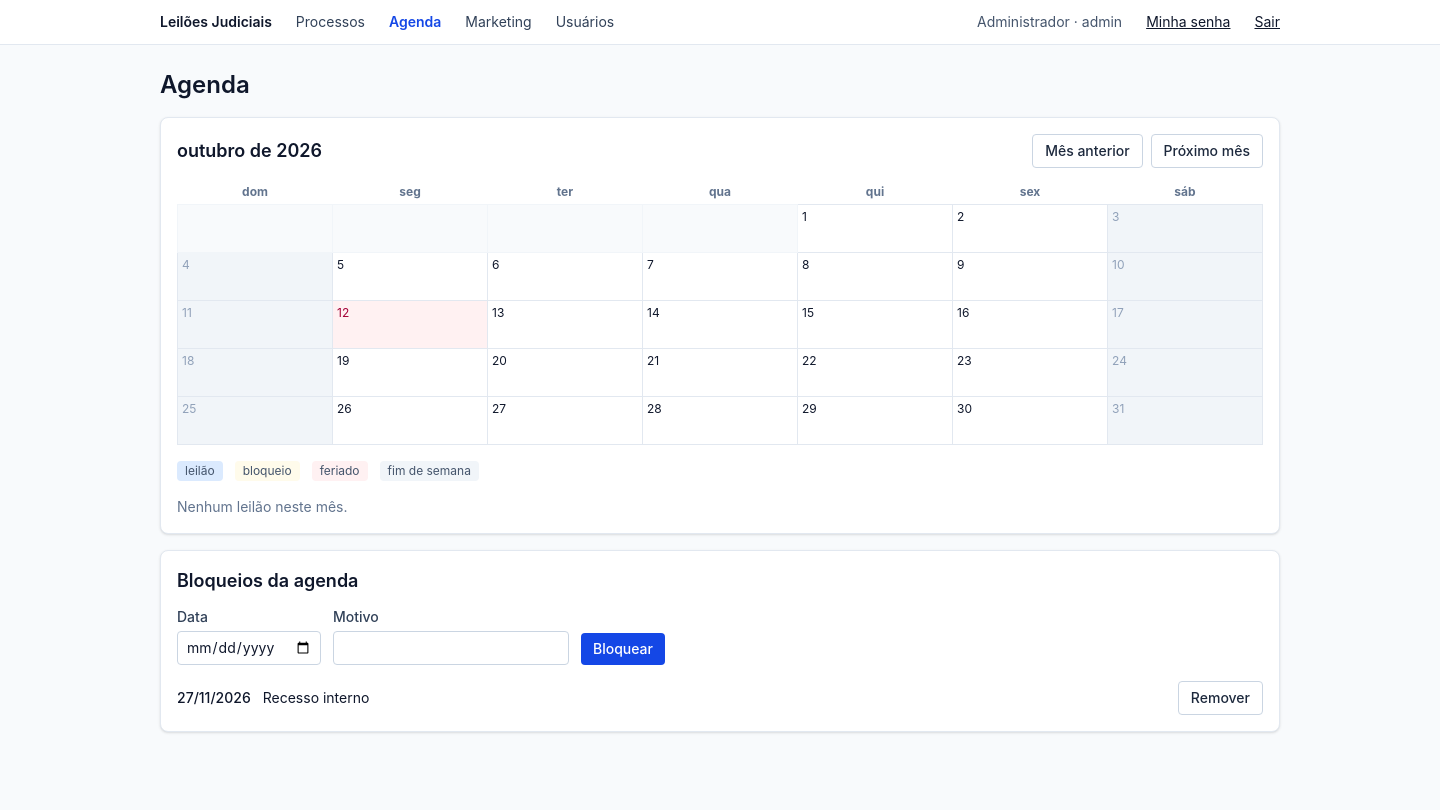
Test: AgendaPage › admin lista bloqueios e adiciona um novo
Expected: the text "Recesso interno" is shown, x1=263 y1=688 x2=369 y2=708
Expected: the text "27/11/2026" is shown, x1=177 y1=688 x2=251 y2=708
In the date field labelled "Data": (249, 648) x1=177 y1=631 x2=321 y2=665, type "2026-12-24"
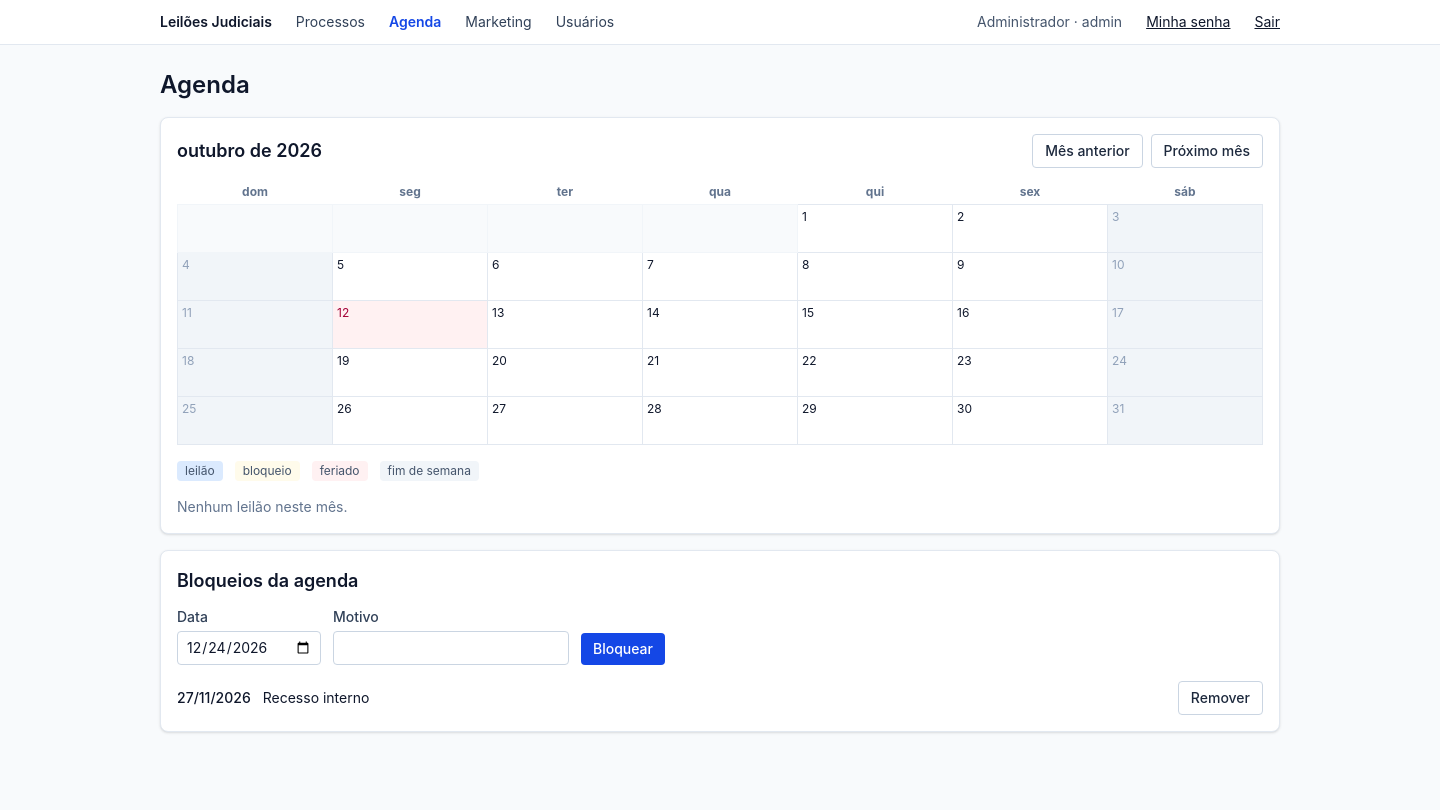
In the field labelled "Motivo": (451, 648) x1=333 y1=631 x2=569 y2=665, type "Véspera de Natal"
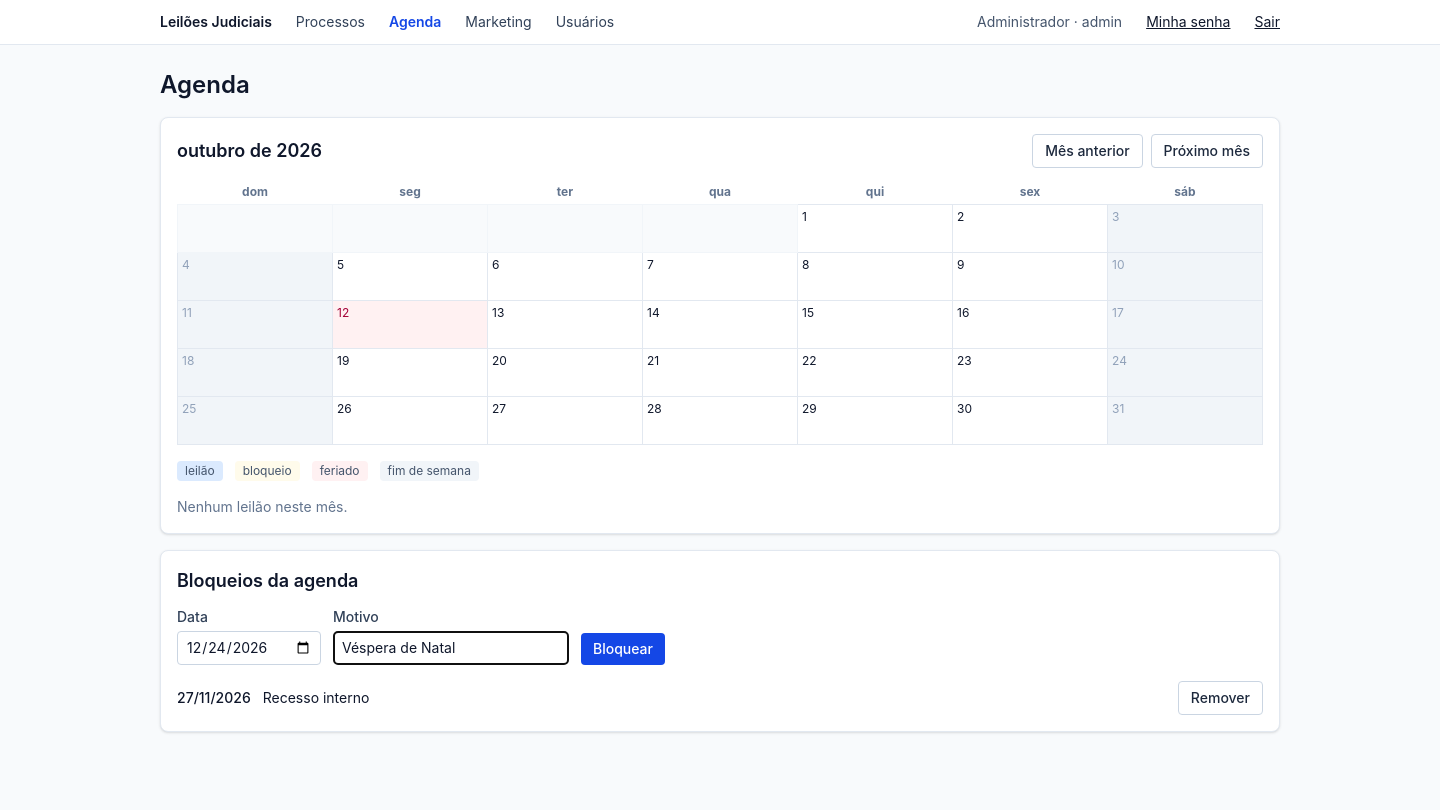
Click the button "Bloquear": (623, 649) x1=581 y1=633 x2=665 y2=665
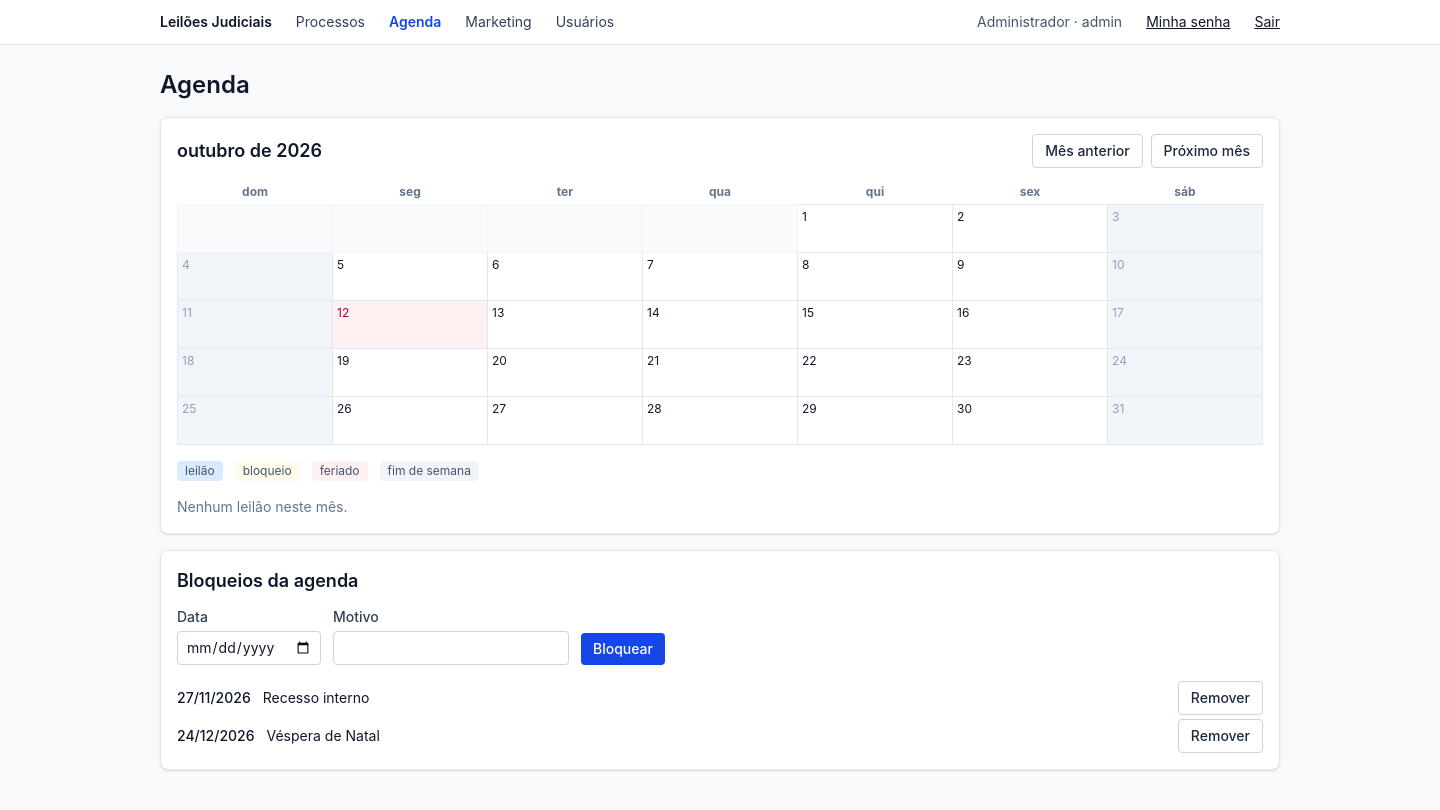
Expected: the text "Véspera de Natal" is shown, x1=266 y1=726 x2=380 y2=746
Expected: the text "24/12/2026" is shown, x1=177 y1=726 x2=254 y2=746
